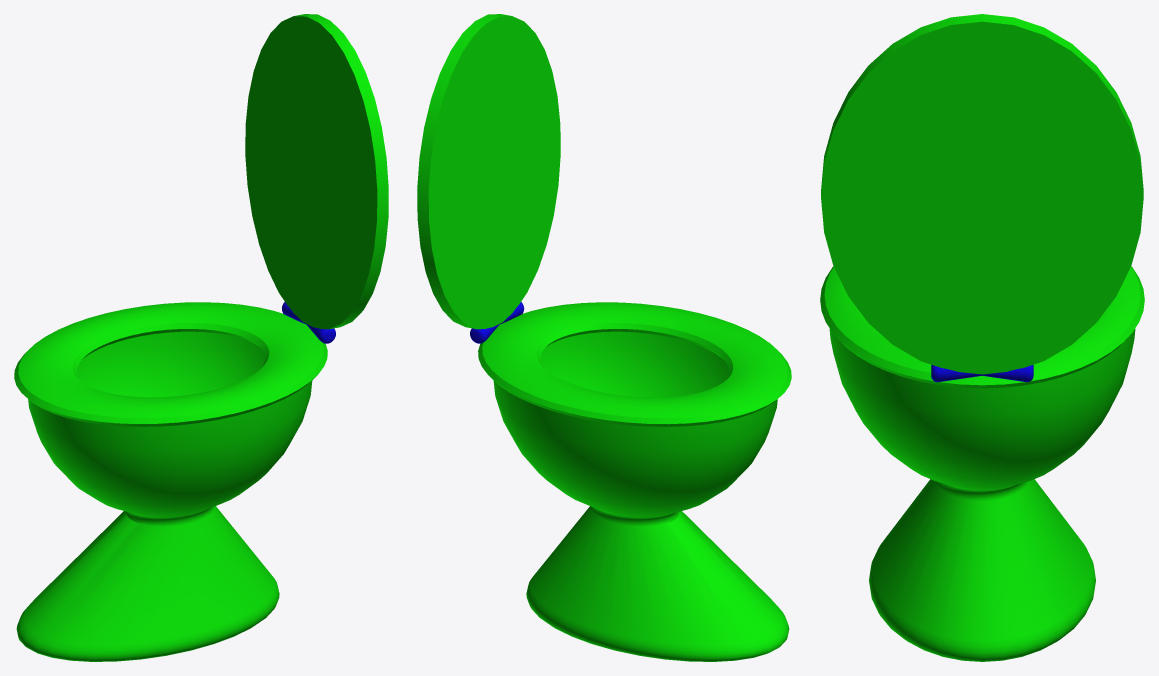
File: Retrete.fbx
The picture shows the model from 3 angles, left to right: view 1: azimuth 30°, elevation 25°; view 2: azimuth 150°, elevation 25°; view 3: azimuth 270°, elevation 25°; orthographic projection. The views are drawn at different scales.
Visible parts, largest first — view 1: Sphere, Cylinder.001, Torus; view 2: Sphere, Cylinder.001, Torus; view 3: Cylinder.001, Sphere, Torus, Cylinder.002.
Boxes of the visible parts, x1,y1,x2,y2 form: Sphere: (16,331,312,661); Cylinder.001: (245,14,388,329); Torus: (14,302,327,426); Sphere: (493,331,789,661); Cylinder.001: (417,14,560,329); Torus: (478,302,791,426); Cylinder.001: (821,14,1143,374); Sphere: (829,329,1135,661); Torus: (820,266,1144,388); Cylinder.002: (931,364,1033,382).
Bounding box in the file's own units: 76.61 × 133 × 57.33.
